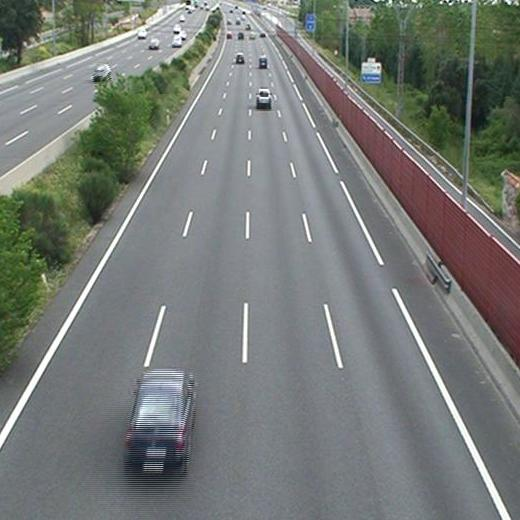car: (126, 370, 194, 464), (256, 90, 271, 106), (235, 53, 245, 63)
van: (257, 56, 267, 69)
